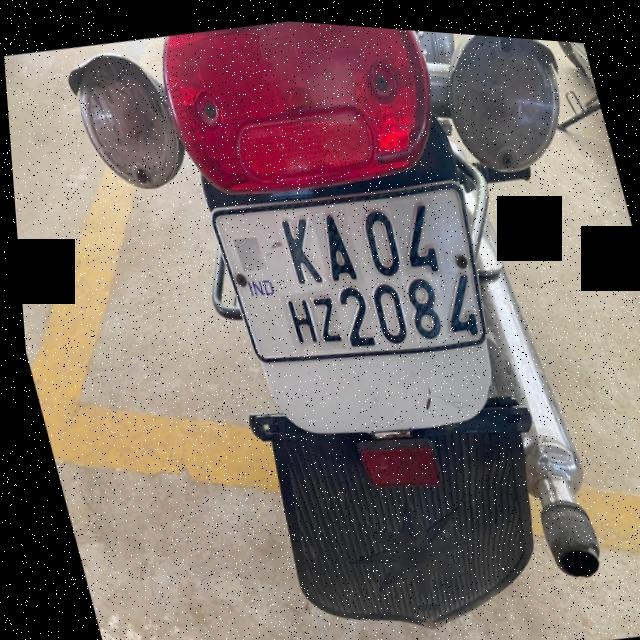0: (350, 197, 406, 277), (361, 266, 409, 341)
4: (384, 183, 449, 276), (432, 262, 478, 339)
8: (396, 265, 444, 340)
A: (308, 201, 361, 286)
H: (276, 286, 318, 345)
K: (270, 202, 326, 291)
Z: (303, 280, 342, 348)
